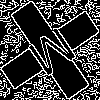M: (25, 25, 85, 87)
